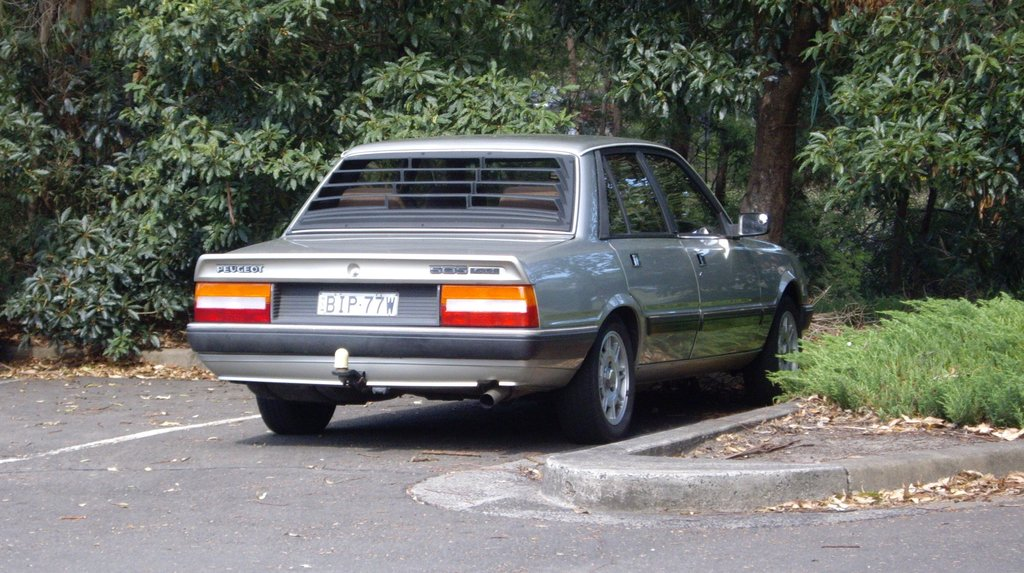Car: (188, 127, 816, 451)
